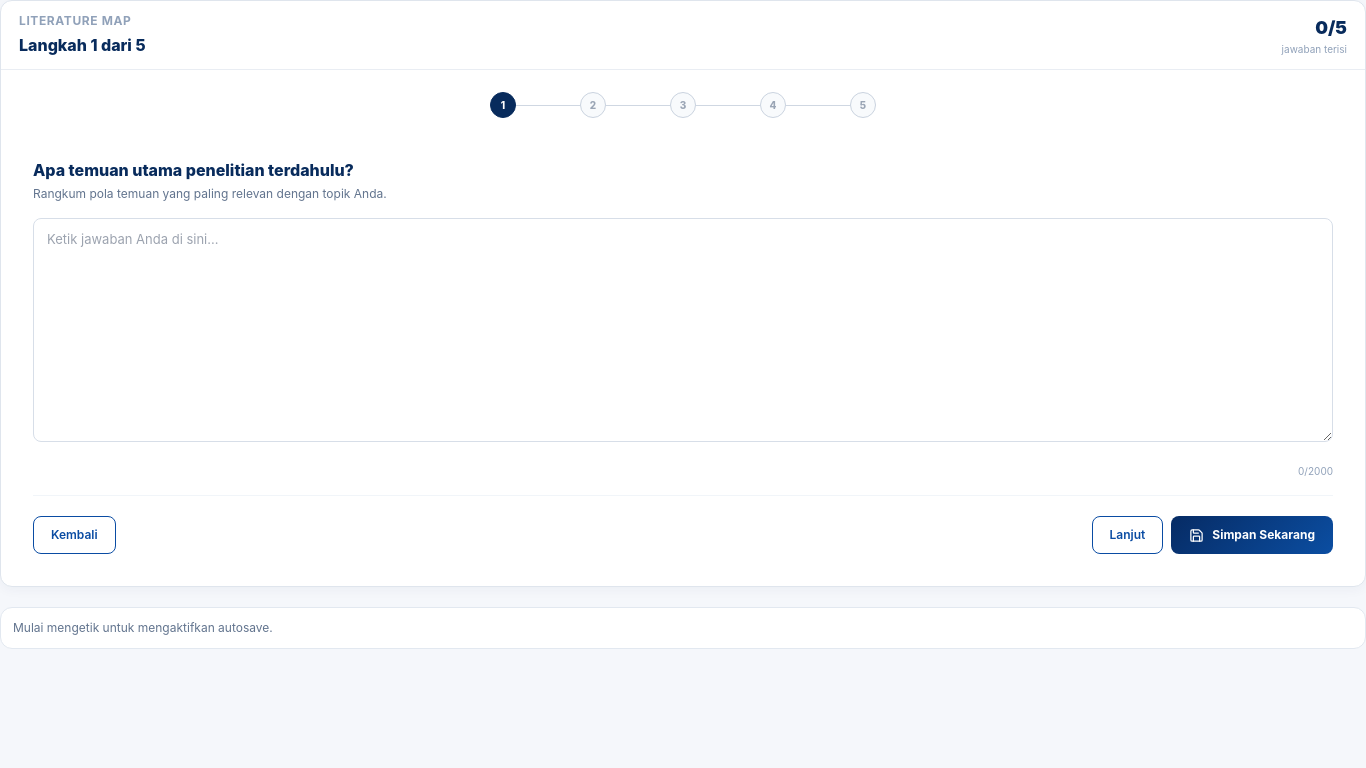
it: structured worksheet autosave › saves Literature Map after the debounce period with its module code
This screenshot has width=1366, height=768.
Type "Temuan terpetakan" into the text box named "Apa temuan utama penelitian terdahulu?". click: (683, 330)
box: x1=33 y1=218 x2=1333 y2=442
Wait 1200 ms
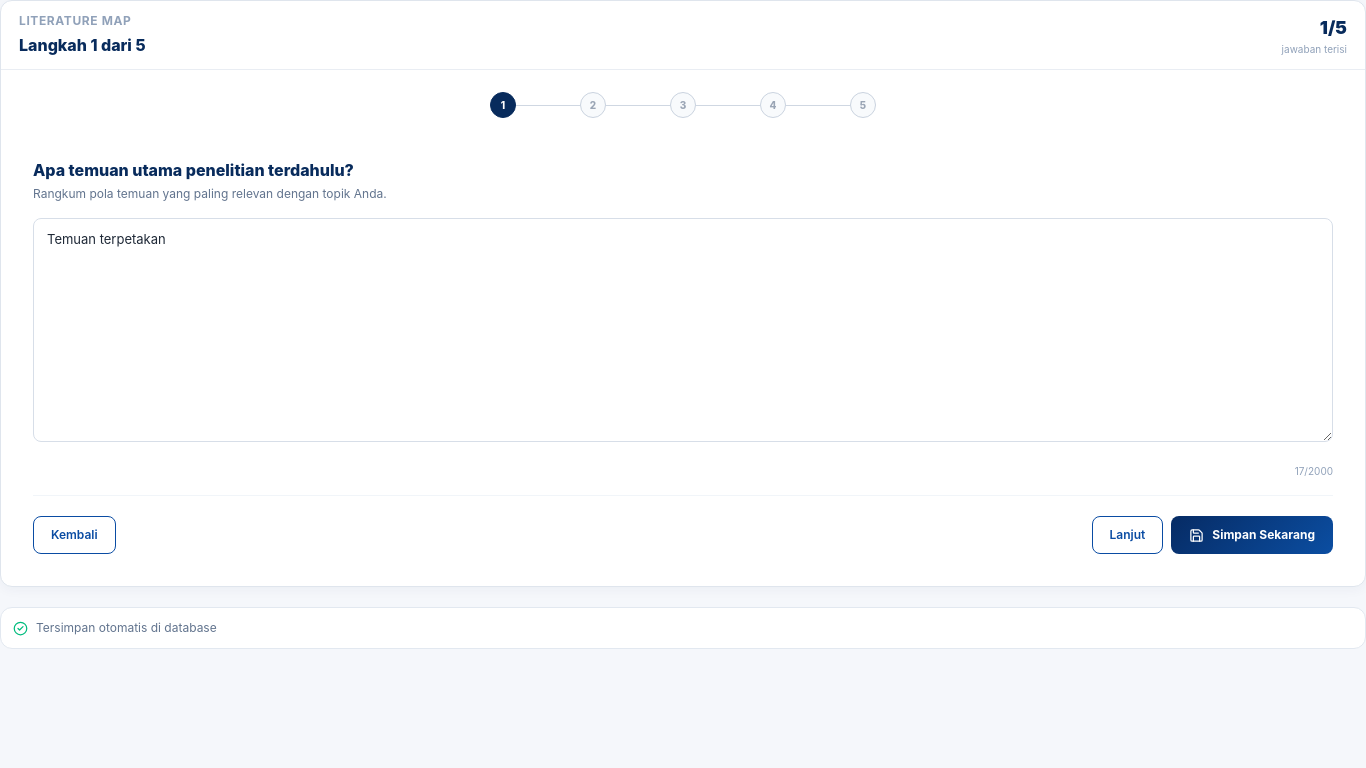
Expected: the text "Tersimpan otomatis di database" is shown, x1=0 y1=607 x2=1365 y2=649
